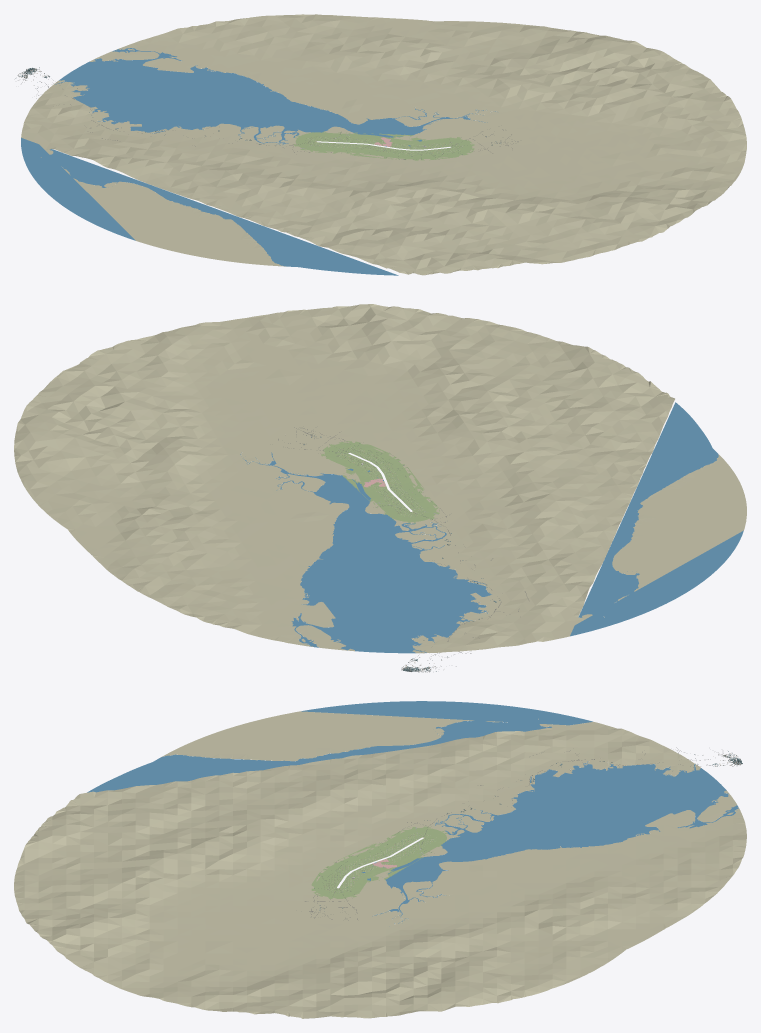
File: backdrop.glb
3 views of the same model, one above another, from view 1: azimuth 30°, elevation 25°; view 2: azimuth 150°, elevation 25°; view 3: azimuth 270°, elevation 25° (orthographic). The views are drawn at different scales.
Parts seen in each view (by area): view 1: backdrop_horizon_land, backdrop_horizon_water, backdrop_terrain_grass; view 2: backdrop_horizon_land, backdrop_horizon_water, backdrop_terrain_grass; view 3: backdrop_horizon_land, backdrop_horizon_water, backdrop_terrain_grass.
Boxes of the visible parts, x1,y1,x2,y2 form: backdrop_horizon_land: (21, 14, 746, 275); backdrop_horizon_water: (21, 48, 495, 275); backdrop_terrain_grass: (293, 131, 474, 160); backdrop_horizon_land: (14, 304, 746, 653); backdrop_horizon_water: (240, 402, 743, 653); backdrop_terrain_grass: (321, 441, 439, 523); backdrop_horizon_land: (14, 711, 746, 1018); backdrop_horizon_water: (87, 701, 738, 923); backdrop_terrain_grass: (311, 826, 448, 898).
Size of the model in its own units: 82730 by 1105 by 79153.
